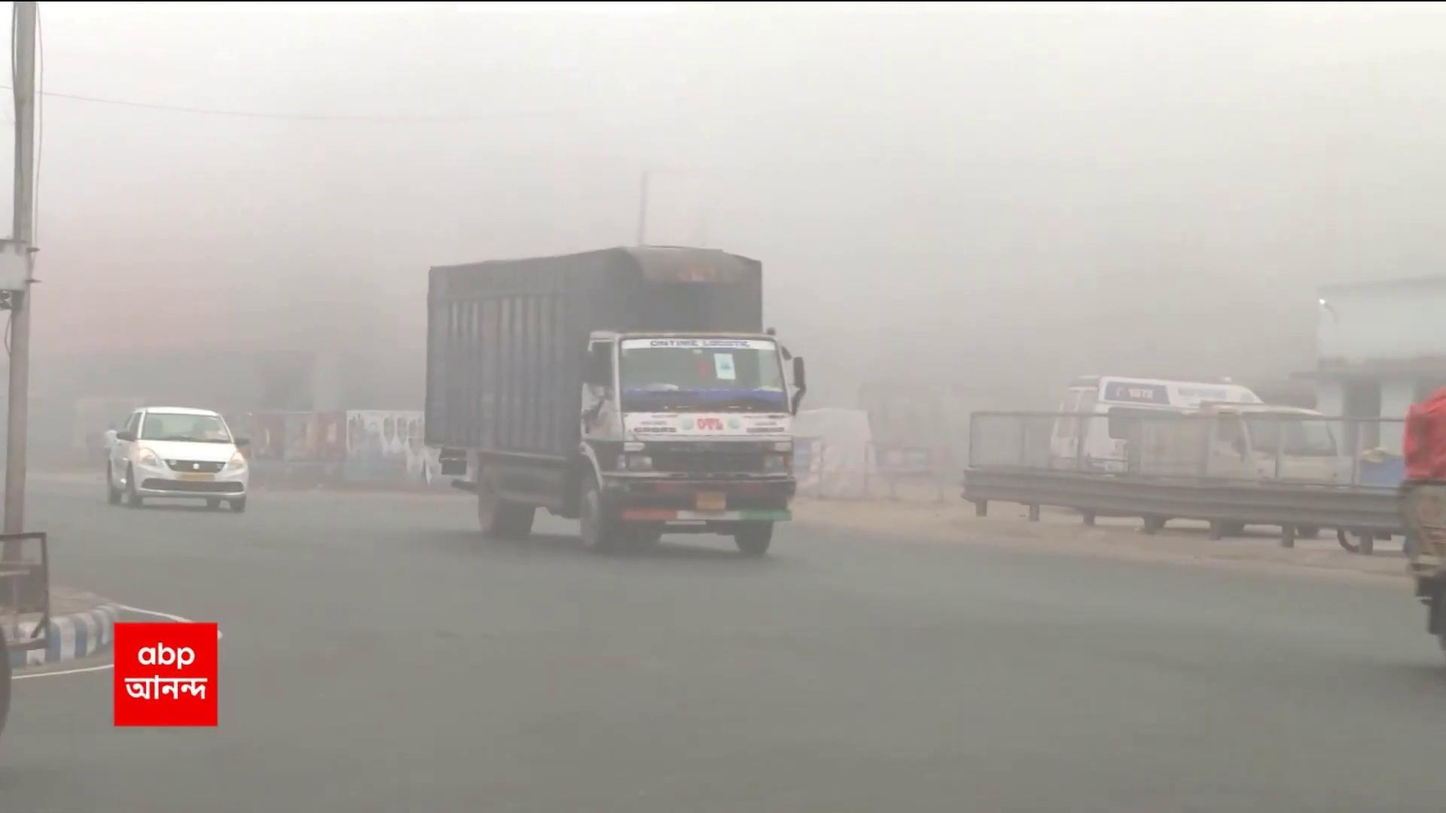Car: (100, 402, 253, 505)
Truck: (421, 245, 802, 556)
